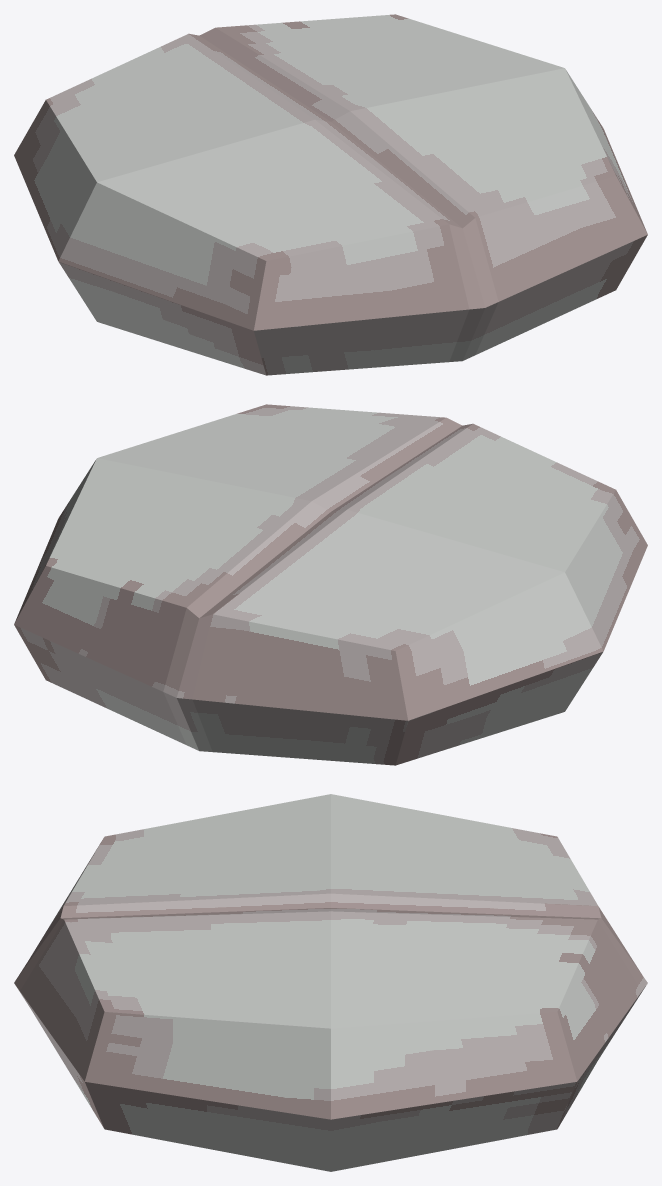
File: TabletMadic1.3.fbx
The picture shows the model from 3 angles, top to bottom: view 1: azimuth 30°, elevation 25°; view 2: azimuth 150°, elevation 25°; view 3: azimuth 270°, elevation 25°; orthographic projection. The views are drawn at different scales.
Visible parts, largest first — view 1: Cube; view 2: Cube; view 3: Cube.
Boxes of the visible parts, left/top/right/bottom form: Cube: left=14, top=14, right=647, bottom=375; Cube: left=14, top=404, right=647, bottom=765; Cube: left=14, top=794, right=647, bottom=1171.
Bounding box in the file's own units: 68.07 × 18.98 × 66.72.
Materials: 1 (1 with a texture image).
